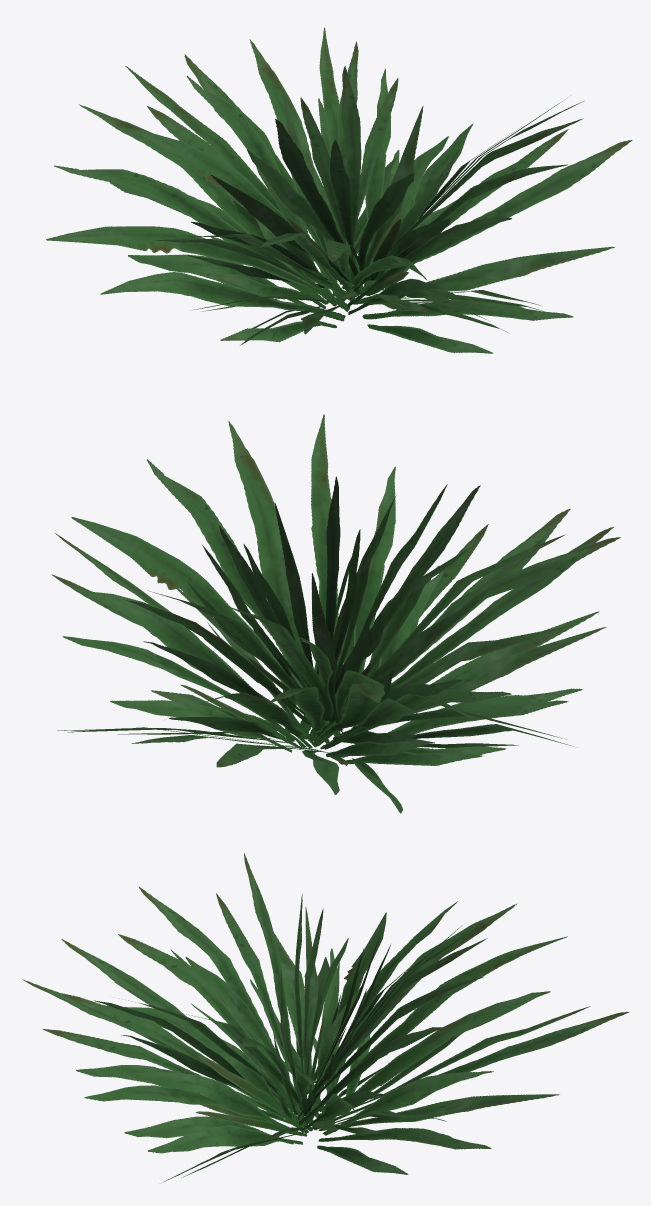
The model's file is GrassBushel_Thick.FBX.
3 views of the same model, one above another, from view 1: azimuth 30°, elevation 25°; view 2: azimuth 150°, elevation 25°; view 3: azimuth 270°, elevation 25° (orthographic). The views are drawn at different scales.
Parts seen in each view (by area): view 1: GrassBushel_Thick; view 2: GrassBushel_Thick; view 3: GrassBushel_Thick.
Part boxes in pixels (x1=…): GrassBushel_Thick: x1=46, y1=27, x2=632, y2=353; GrassBushel_Thick: x1=51, y1=414, x2=620, y2=813; GrassBushel_Thick: x1=22, y1=853, x2=629, y2=1182.
Size of the model in its own units: 331 by 156 by 336.
